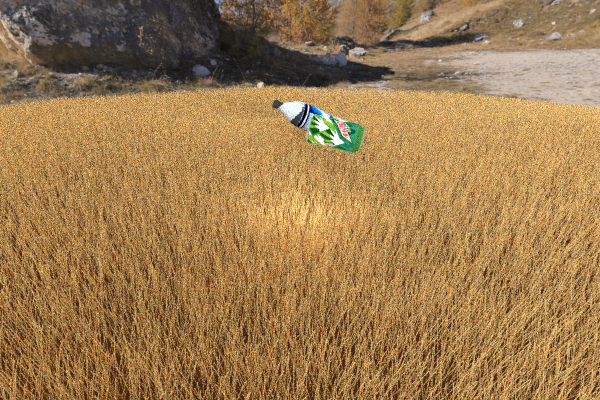Plastic Bottle: (115, 131, 195, 188), (272, 99, 358, 146), (305, 114, 365, 152)
